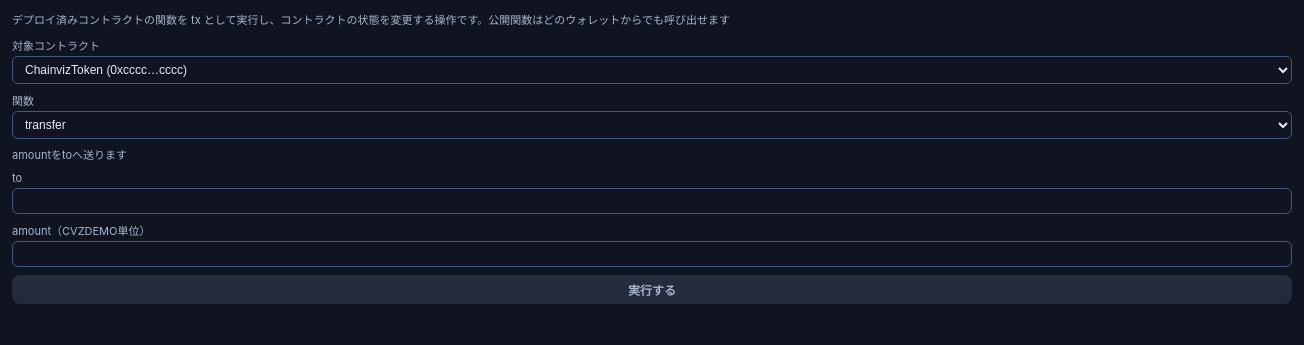
Test: CallForm with a token-unit function arg (Issue #219) › disables submit for a token-unit amount whose fractional digits exceed the token's decimals
The width and height of the screenshot is (1304, 345).
Type "0xbbbbbbbbbbbbbbbbbbbbbbbbbbbbbbbbbbbbbbbb" into the field with test id "operation-call-arg-to".
click(652, 201); type("0xbbbbbbbbbbbbbbbbbbbbbbbbbbbbbbbbbbbbbbbb")  # box [12,188,1292,214]
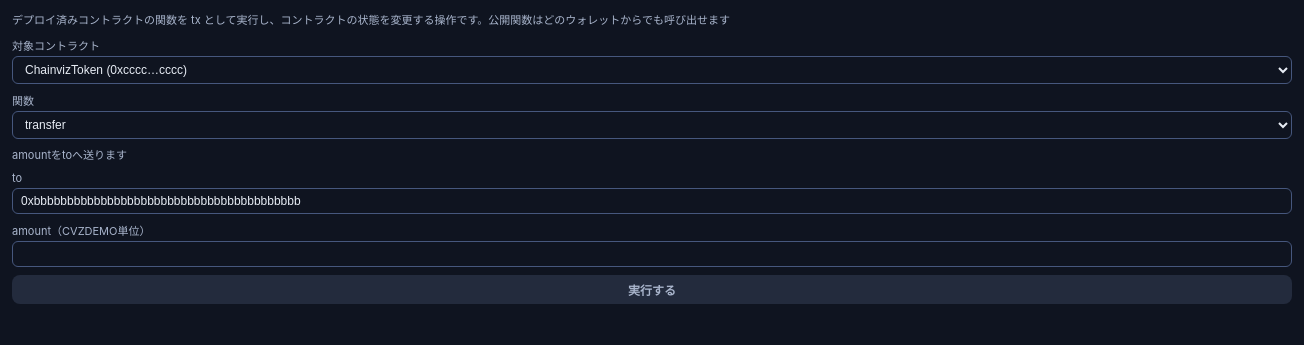
Type "1.0000000000000000001" into the field with test id "operation-call-arg-amount".
click(652, 254); type("1.0000000000000000001")  # box [12,241,1292,267]
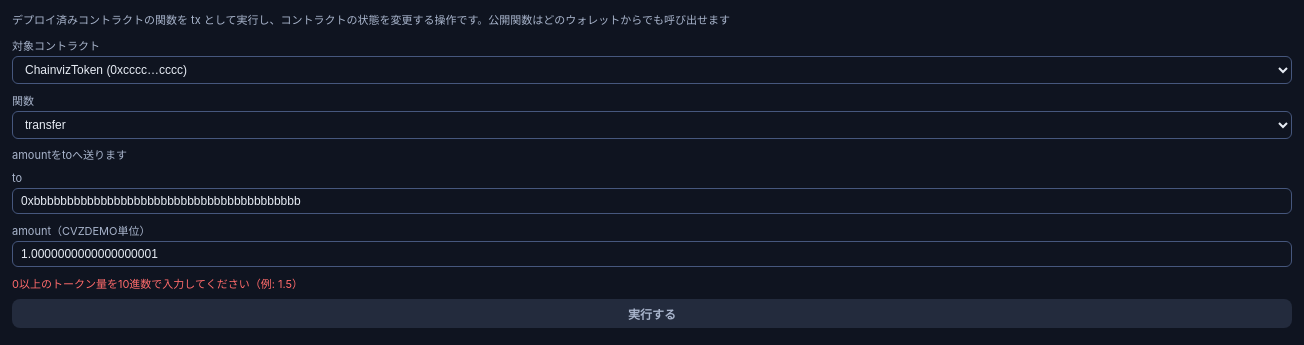
Check: the button "実行する" is disabled, box [12,299,1292,328]
Check: the text "0以上のトークン量を10進数で入力してください（例: 1.5）" is shown, box [12,277,303,291]
